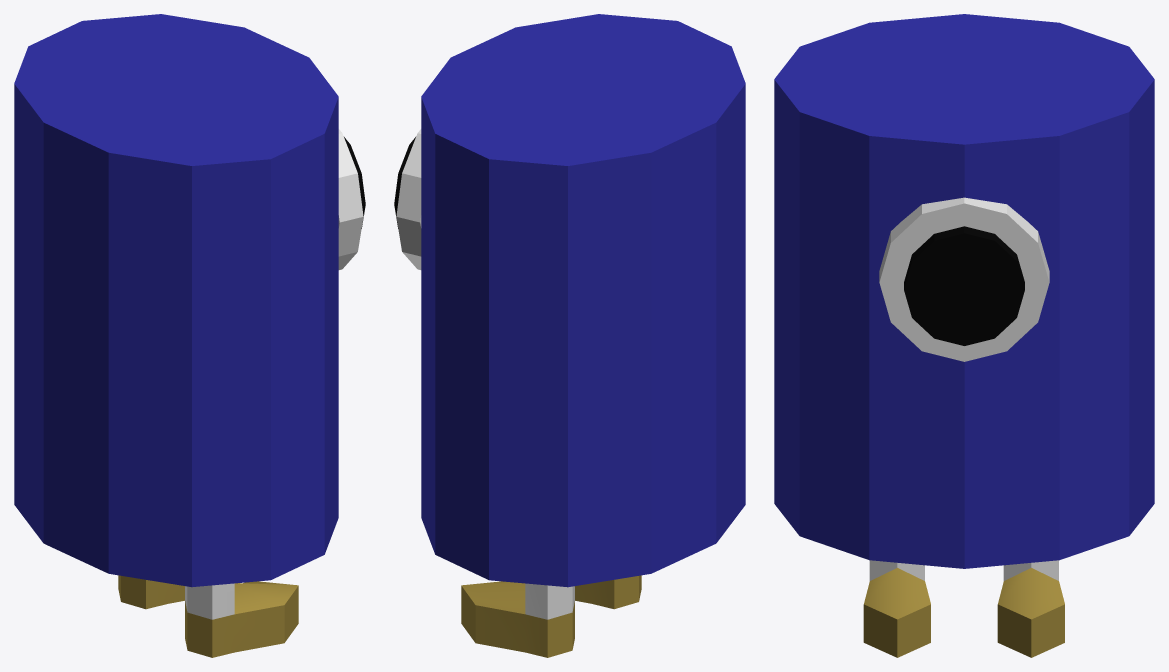
File: cancan_noarm.fbx
3 renders of one model, left to right at view 1: azimuth 30°, elevation 25°; view 2: azimuth 150°, elevation 25°; view 3: azimuth 270°, elevation 25°, orthographic.
Parts seen in each view (by area): view 1: pCylinder1; view 2: pCylinder1; view 3: pCylinder1.
Boxes of the visible parts, box(x1,y1,x2,y2) form: pCylinder1: box(14, 14, 365, 657); pCylinder1: box(394, 14, 745, 657); pCylinder1: box(774, 14, 1154, 657).
Bounding box in the file's own units: 2.2 × 3.82 × 2.46.
